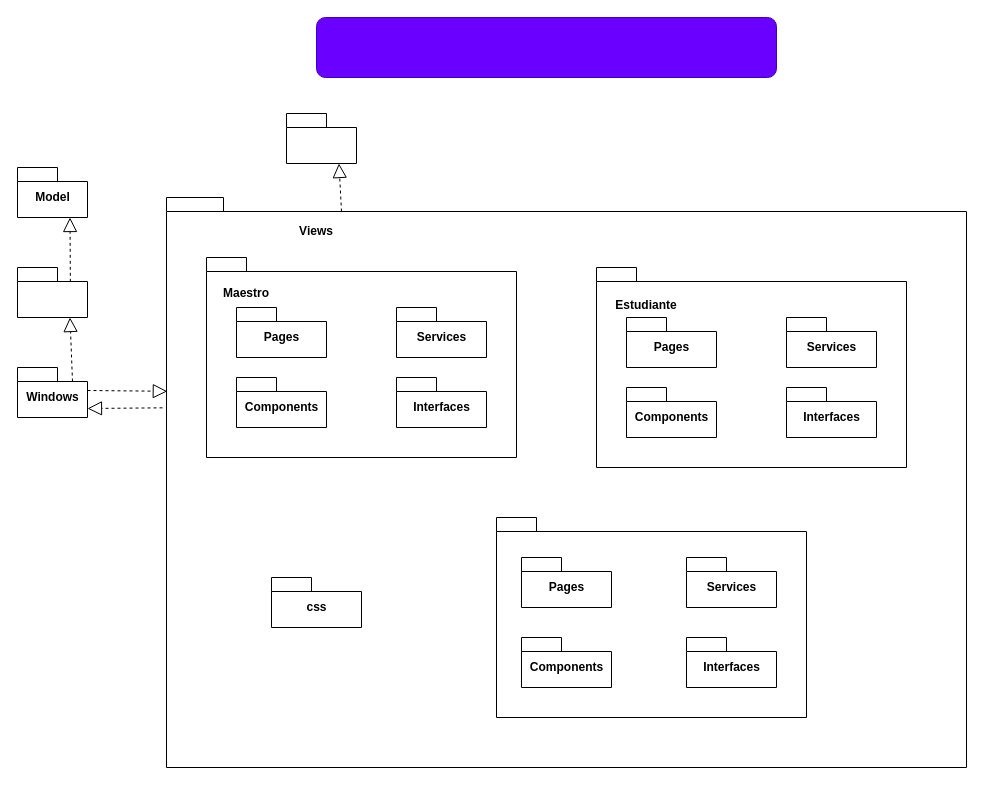
Some shapes in this 984 by 785 pixel diagram are drawn without their labels. Here are the shapes that lost their labels. From the top down, the box of each, then its label:
(316, 16, 776, 78): DIAGRAMA DE PAQUETES
(286, 112, 356, 164): Resources
(16, 266, 88, 318): Controllers
